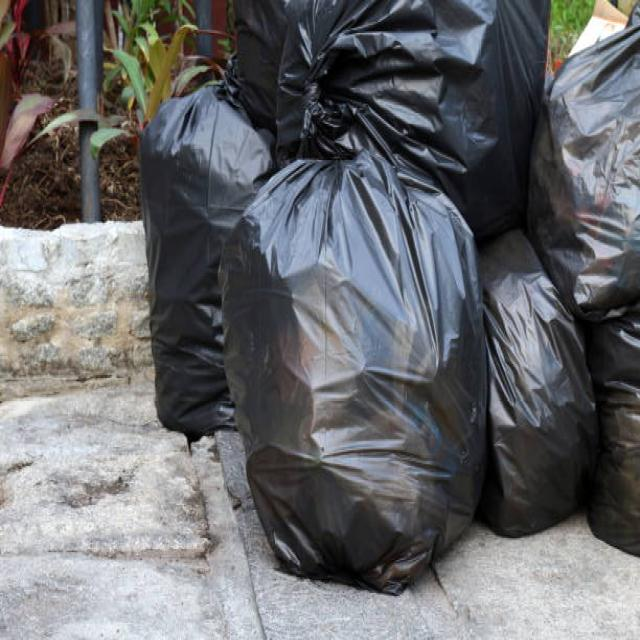sampah-detection: (208, 126, 493, 599), (269, 0, 543, 226), (134, 83, 266, 444), (483, 230, 600, 538), (522, 13, 640, 316)
